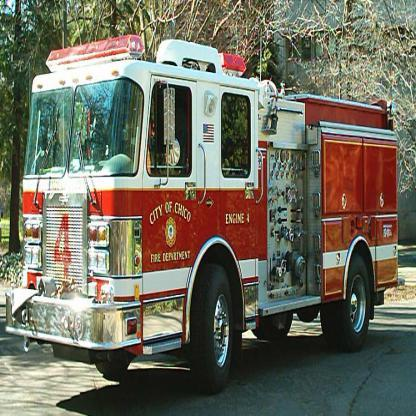fire-truck: (8, 24, 402, 416)
